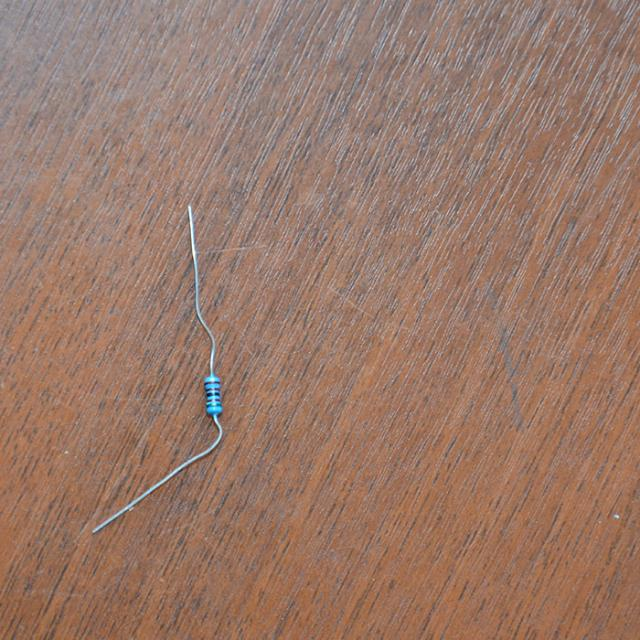black: (207, 392, 220, 396)
brown: (204, 381, 221, 385), (206, 388, 220, 391), (207, 399, 220, 402)
green: (207, 404, 222, 407)
resistor: (202, 374, 226, 417)
